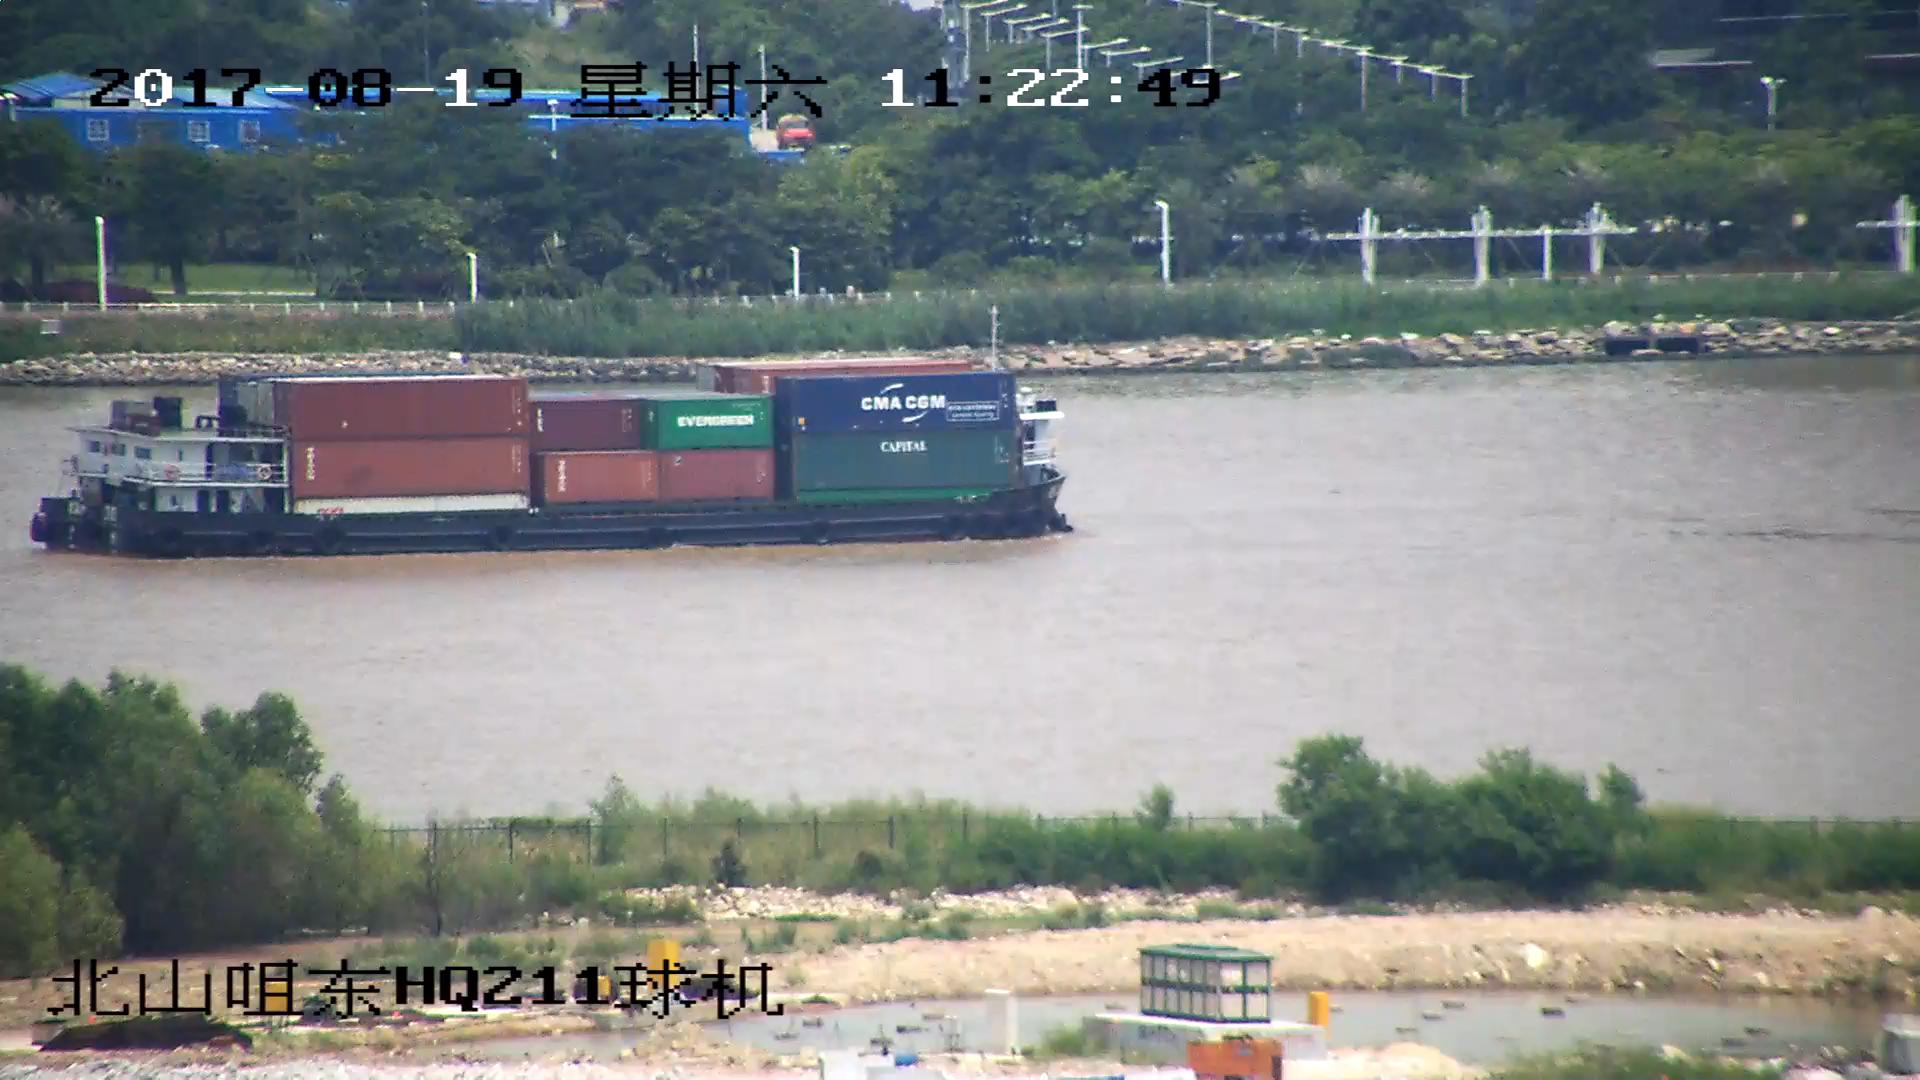container ship: (25, 373, 1078, 554)
